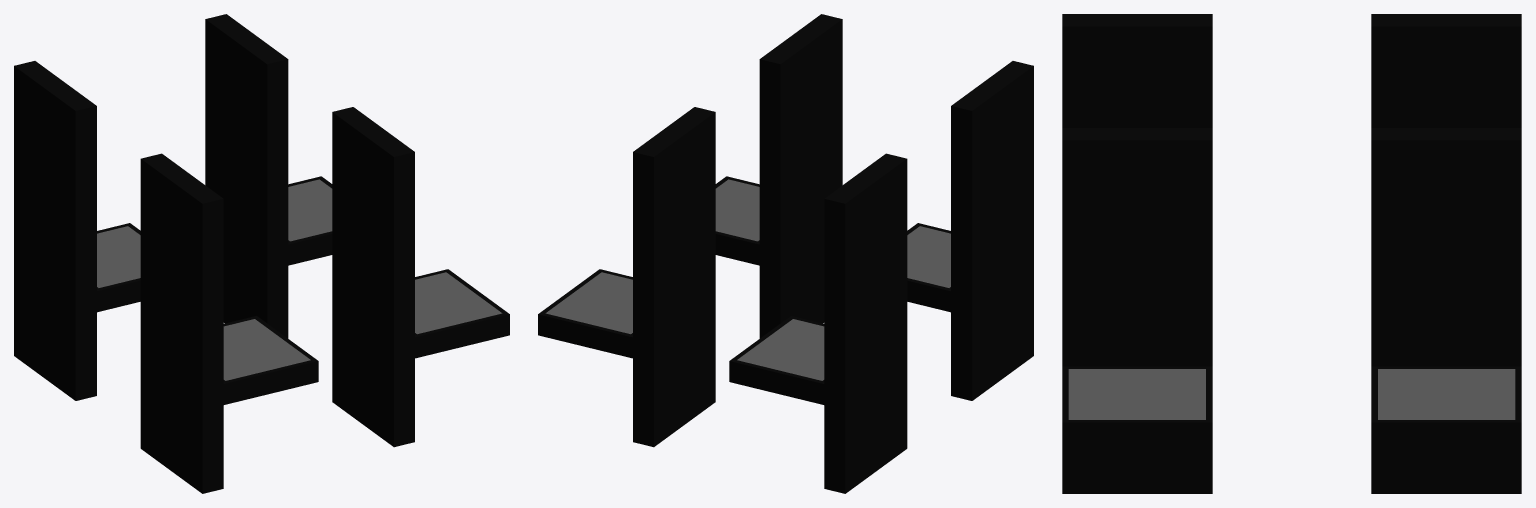
Rendered from JTV Utility Car Seats.obj.
The picture shows the model from 3 angles, left to right: view 1: azimuth 30°, elevation 25°; view 2: azimuth 150°, elevation 25°; view 3: azimuth 270°, elevation 25°; orthographic projection. The views are drawn at different scales.
Visible parts, largest first — view 1: JTV-Seats_Cube.001; view 2: JTV-Seats_Cube.001; view 3: JTV-Seats_Cube.001.
Part boxes in pixels (bbox=[...]): JTV-Seats_Cube.001: bbox=[14, 14, 509, 493]; JTV-Seats_Cube.001: bbox=[538, 14, 1033, 493]; JTV-Seats_Cube.001: bbox=[1062, 14, 1521, 493].
Bounding box in the file's own units: 3.21 × 2.9 × 3.41.
